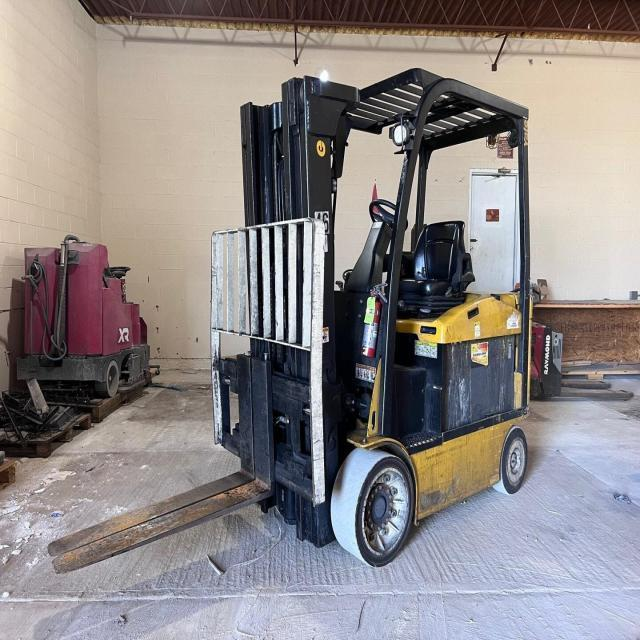forklift: (210, 67, 535, 570)
